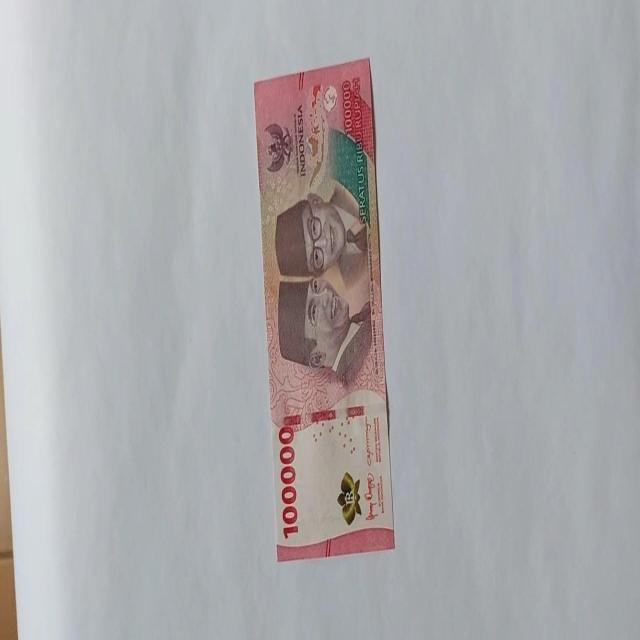Kertas: (253, 56, 395, 561)
